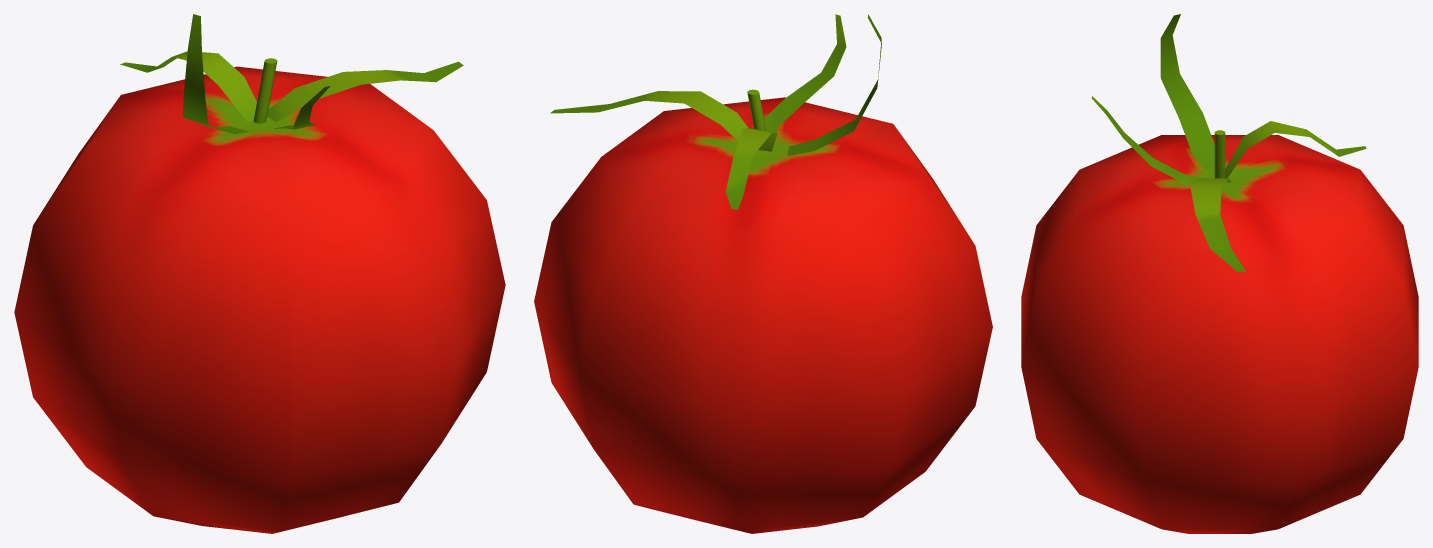
The model's file is Vegetables01_5.FBX.
The picture shows the model from 3 angles, left to right: view 1: azimuth 30°, elevation 25°; view 2: azimuth 150°, elevation 25°; view 3: azimuth 270°, elevation 25°; orthographic projection. The views are drawn at different scales.
Visible parts, largest first — view 1: Vegetables01_5; view 2: Vegetables01_5; view 3: Vegetables01_5.
Boxes of the visible parts, x1=… form: Vegetables01_5: x1=14, y1=14, x2=505, y2=533; Vegetables01_5: x1=534, y1=14, x2=992, y2=533; Vegetables01_5: x1=1021, y1=14, x2=1418, y2=533.
Size of what is drawn, in the model's own units: 0.0936 by 0.1145 by 0.0901.
